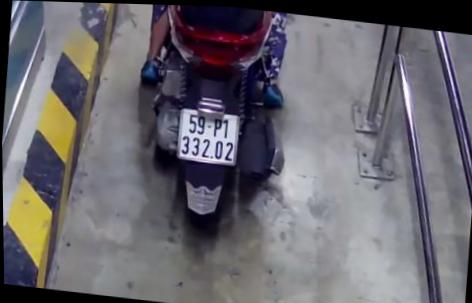LP: (177, 106, 240, 164)
